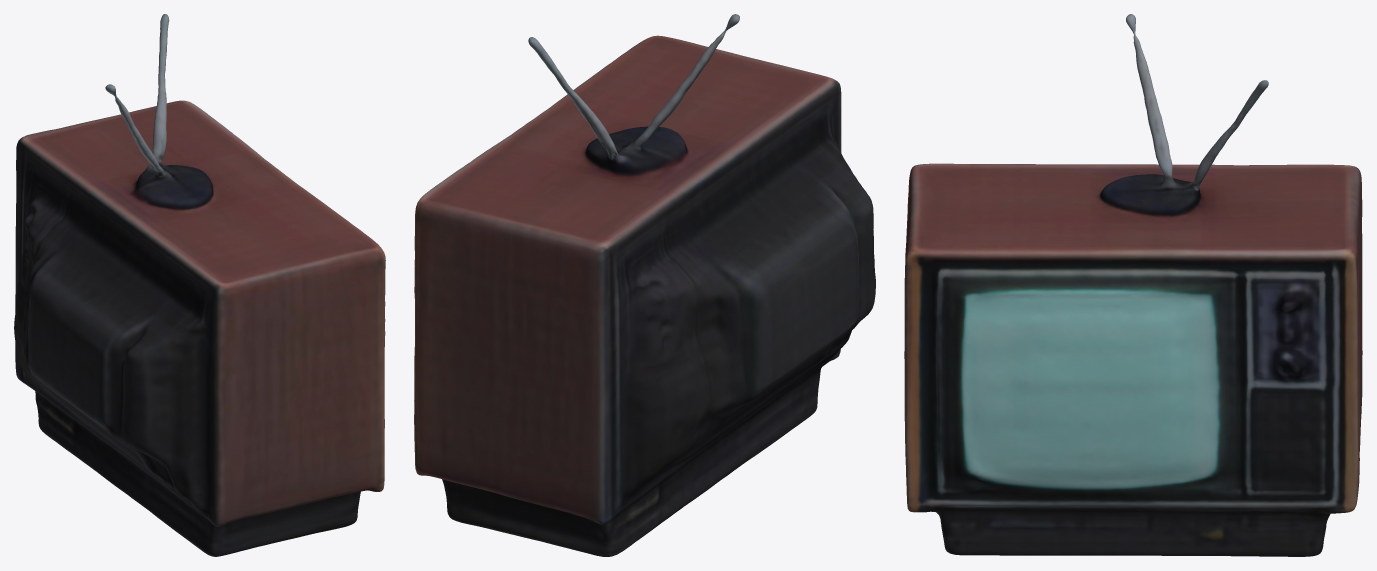
File: 90762222ea1d_90s_tv__3d_asset_0_.fbx
3 views of the same model, side by side, from view 1: azimuth 30°, elevation 25°; view 2: azimuth 150°, elevation 25°; view 3: azimuth 270°, elevation 25° (orthographic). The views are drawn at different scales.
Visible parts, largest first — view 1: high_poly; view 2: high_poly; view 3: high_poly.
Boxes of the visible parts, x1,y1,x2,y2 form: high_poly: [14, 14, 385, 556]; high_poly: [414, 14, 875, 556]; high_poly: [904, 14, 1362, 556].
Bounding box in the file's own units: 63.56 × 100 × 91.14.
